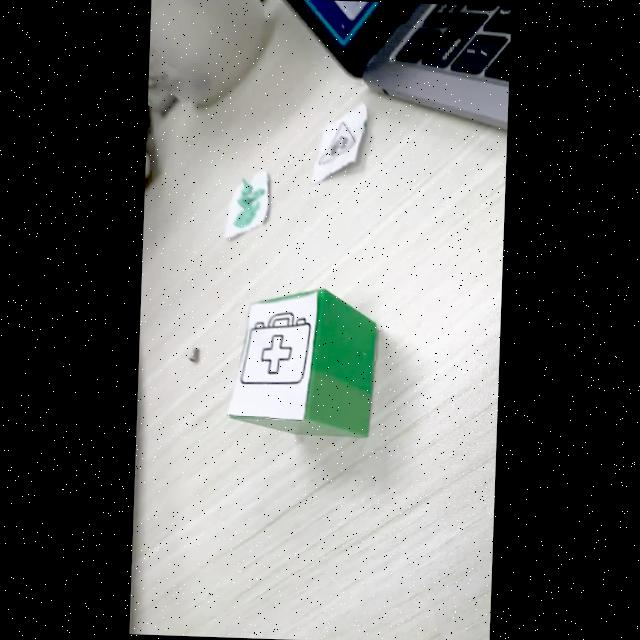Medkit: (239, 312, 311, 385)
